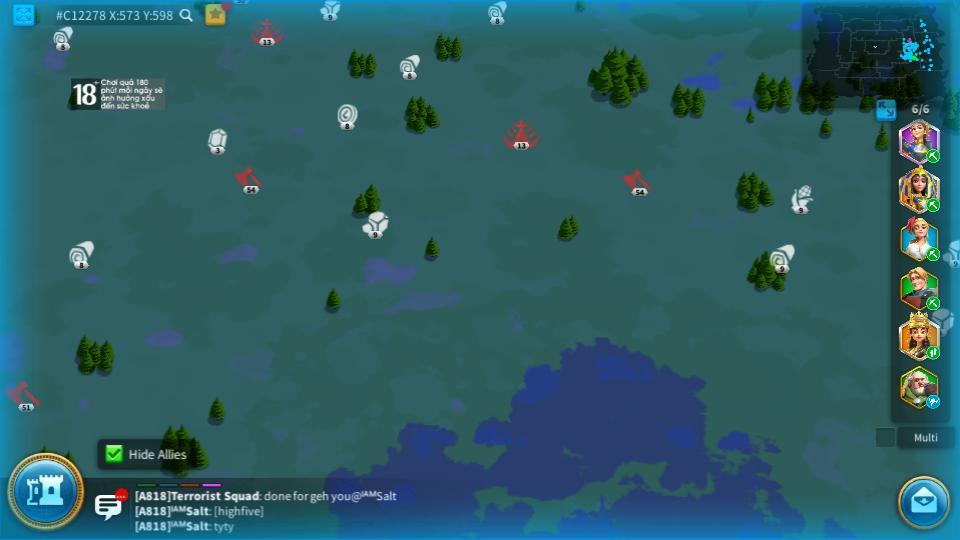gem-z-out: (205, 127, 227, 153)
march_farming: (924, 197, 939, 212), (925, 297, 941, 308)
march_idle: (925, 396, 942, 408)
march_marching: (925, 345, 941, 359)
